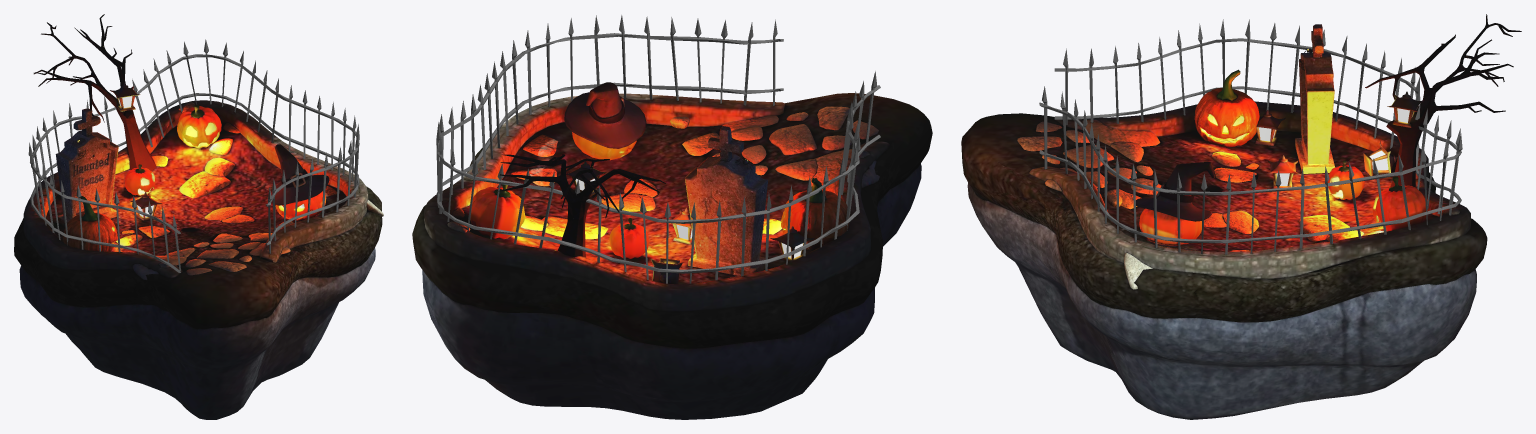
File: Island-transformed.glb
3 renders of one model, left to right at view 1: azimuth 30°, elevation 25°; view 2: azimuth 150°, elevation 25°; view 3: azimuth 270°, elevation 25°, orthographic. The views are drawn at different scales.
Visible parts, largest first — view 1: Island_Baked; view 2: Island_Baked; view 3: Island_Baked.
Part boxes in pixels (left/top/right/bottom): Island_Baked: left=14, top=14, right=383, bottom=419; Island_Baked: left=412, top=15, right=932, bottom=419; Island_Baked: left=961, top=14, right=1521, bottom=419.
Bounding box in the file's own units: 4.57 × 3.71 × 5.75.
Materials: 2 (1 with a texture image).
